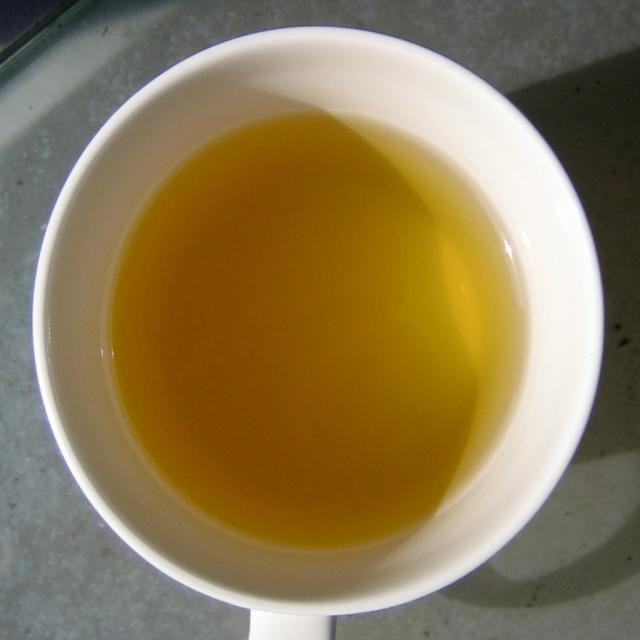Tea: (110, 120, 538, 544)
